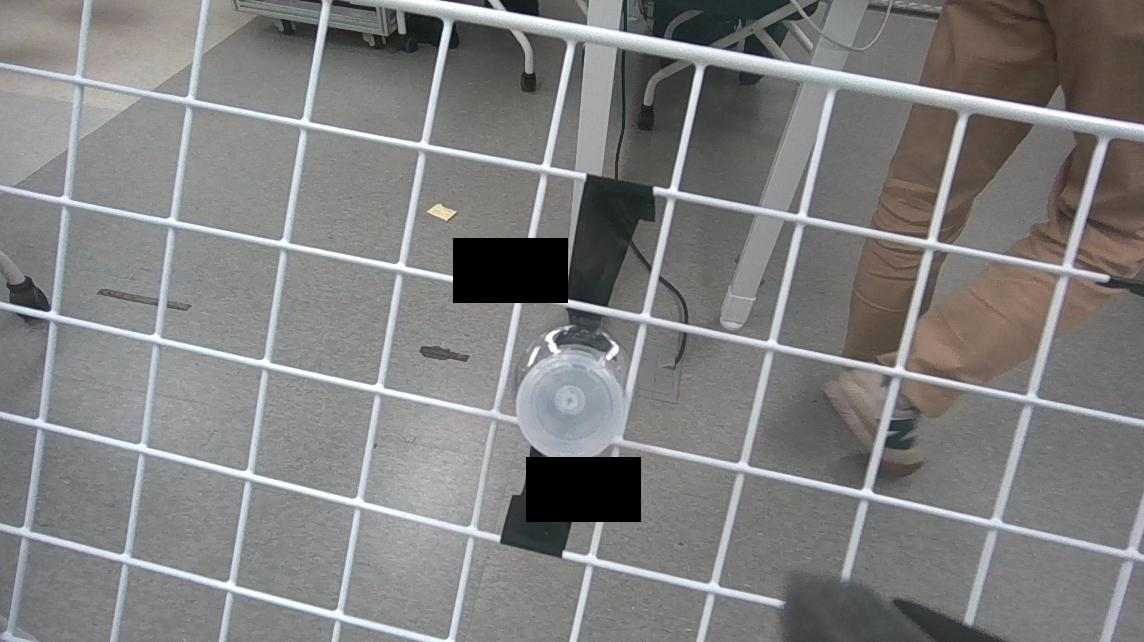Cap: (509, 354, 628, 464)
